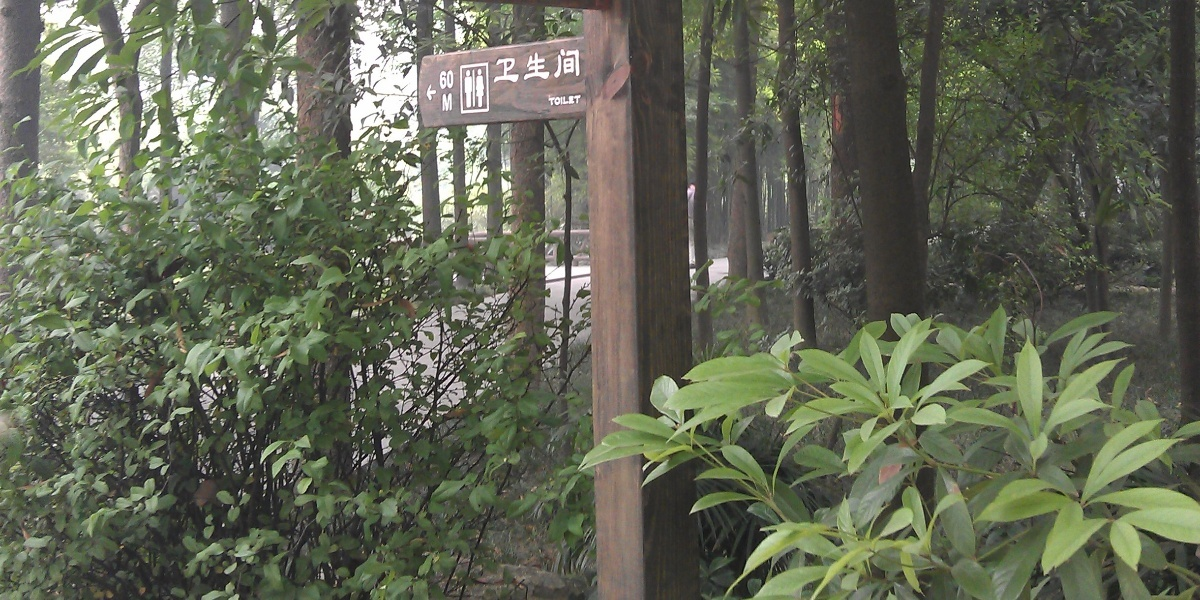text: (497, 49, 512, 86), (513, 49, 528, 86), (529, 49, 544, 86), (545, 49, 560, 86), (561, 49, 576, 86), (561, 95, 576, 108), (439, 70, 448, 91), (577, 49, 582, 86), (548, 95, 560, 108), (492, 49, 496, 86), (441, 93, 448, 113), (449, 70, 455, 91), (449, 93, 454, 113), (577, 95, 582, 108)
